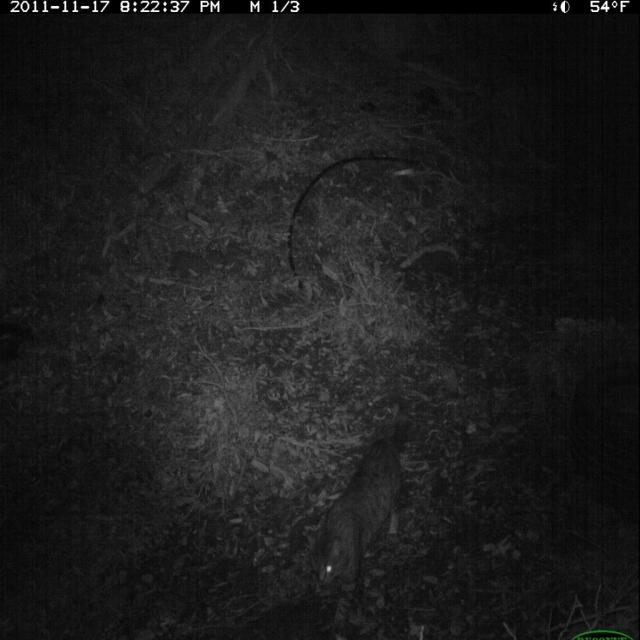cat: (287, 414, 433, 633)
